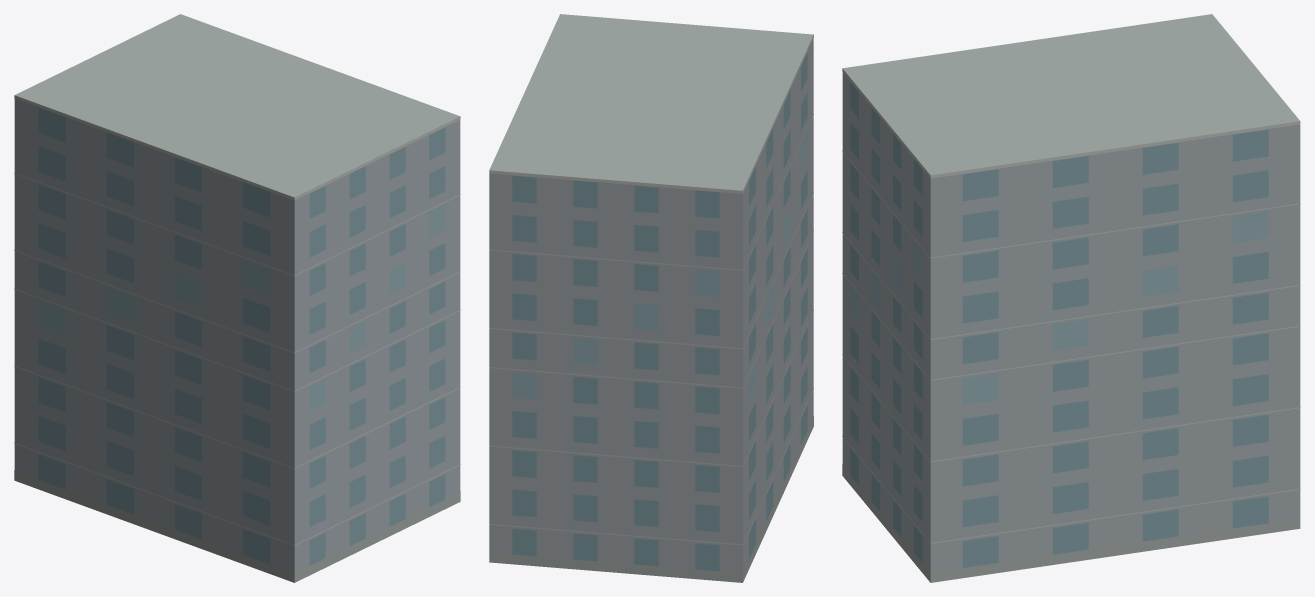
The model's file is residential-c8a86ee4-b68b-4b5d-9966-468c723eabea.glb.
The picture shows the model from 3 angles, left to right: view 1: azimuth 30°, elevation 25°; view 2: azimuth 150°, elevation 25°; view 3: azimuth 270°, elevation 25°; orthographic projection. The views are drawn at different scales.
Visible parts, largest first — view 1: residential-c8a86ee4-b68b-4b5d-9966-468c723eabea.tmp; view 2: residential-c8a86ee4-b68b-4b5d-9966-468c723eabea.tmp; view 3: residential-c8a86ee4-b68b-4b5d-9966-468c723eabea.tmp.
Boxes of the visible parts, x1,y1,x2,y2 form: residential-c8a86ee4-b68b-4b5d-9966-468c723eabea.tmp: (14,14,460,582); residential-c8a86ee4-b68b-4b5d-9966-468c723eabea.tmp: (489,14,813,582); residential-c8a86ee4-b68b-4b5d-9966-468c723eabea.tmp: (842,14,1300,582).
Size of the model in its own units: 25.93 by 30.5 by 31.08.
